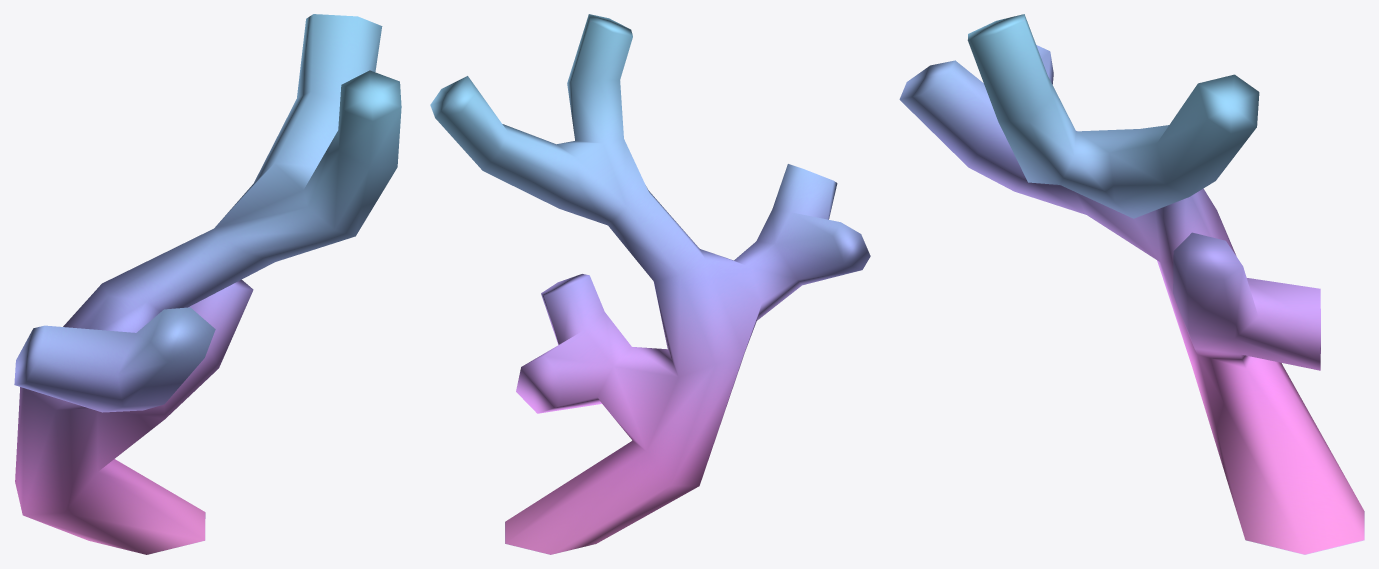
Rendered from MOD_Coral8.fbx.
3 renders of one model, left to right at view 1: azimuth 30°, elevation 25°; view 2: azimuth 150°, elevation 25°; view 3: azimuth 270°, elevation 25°, orthographic. The views are drawn at different scales.
Visible parts, largest first — view 1: MOD_Coral8_LOD0; view 2: MOD_Coral8_LOD0; view 3: MOD_Coral8_LOD0.
Part boxes in pixels (left/top/right/bottom): MOD_Coral8_LOD0: left=14, top=14, right=401, bottom=554; MOD_Coral8_LOD0: left=430, top=14, right=870, bottom=554; MOD_Coral8_LOD0: left=899, top=14, right=1364, bottom=554.
Size of what is drawn, in the model's own units: 3.65 by 4.08 by 3.14.
